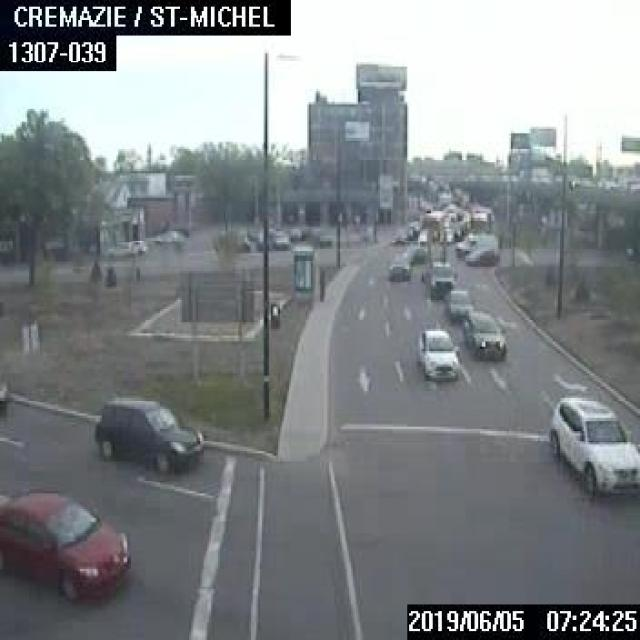vehicle: (0, 487, 129, 602), (544, 391, 638, 498), (92, 394, 204, 474), (415, 324, 460, 378), (463, 310, 505, 358), (421, 261, 456, 300), (453, 232, 496, 256), (443, 288, 472, 321), (464, 244, 498, 264), (388, 250, 410, 278), (153, 227, 185, 242), (108, 240, 136, 254), (272, 228, 288, 247), (0, 380, 11, 407), (390, 226, 407, 241), (129, 237, 146, 251)
